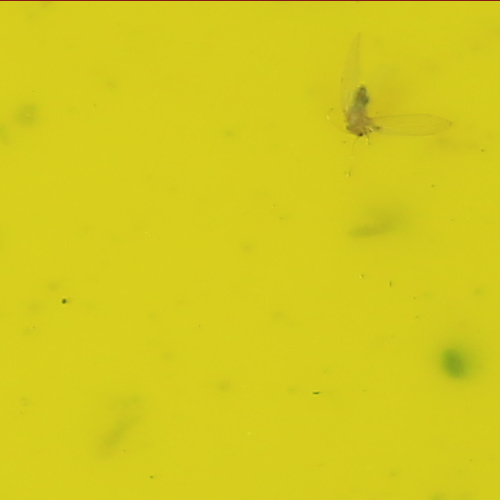psylla: (342, 85, 373, 141)
